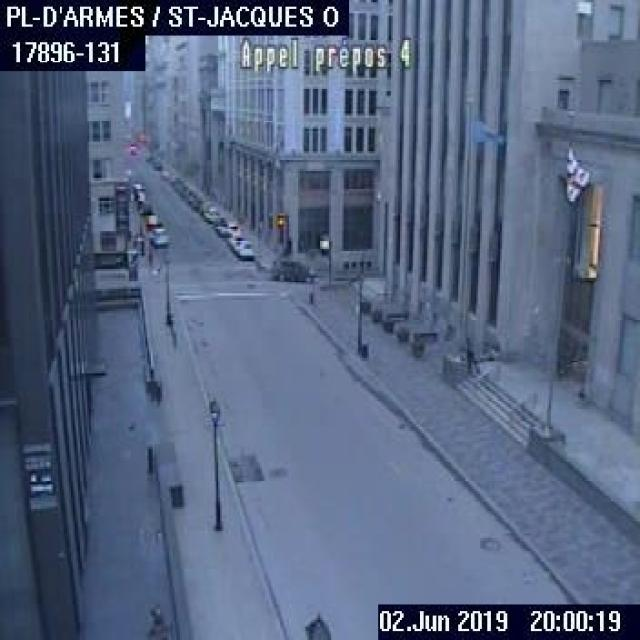vehicle: (271, 251, 315, 280), (200, 204, 217, 223), (148, 228, 166, 245), (238, 238, 253, 258), (222, 222, 238, 237), (230, 234, 244, 251), (215, 222, 229, 236), (226, 231, 238, 245), (150, 221, 164, 233), (212, 215, 225, 227)
